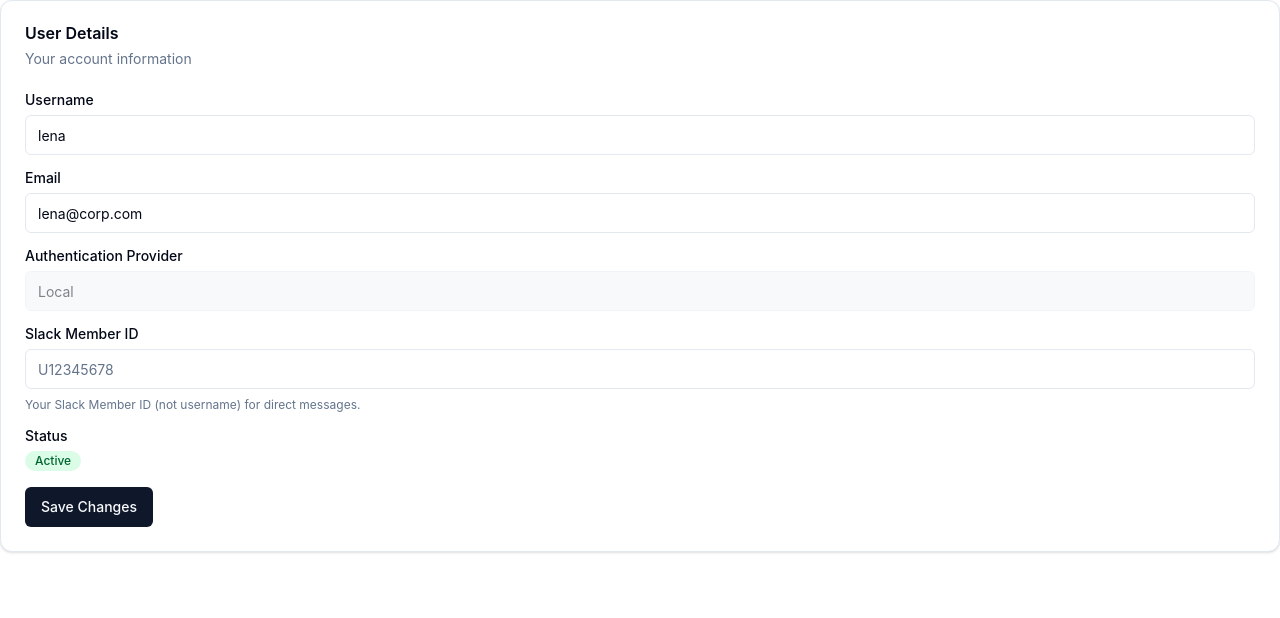
it: UserDetailsCard › keeps a saved address waiting for its link when the new name is refused
This screenshot has width=1280, height=618.
Replace the text in the field labelled "Username" with "otto" at (640, 135), box [25,115,1255,155]
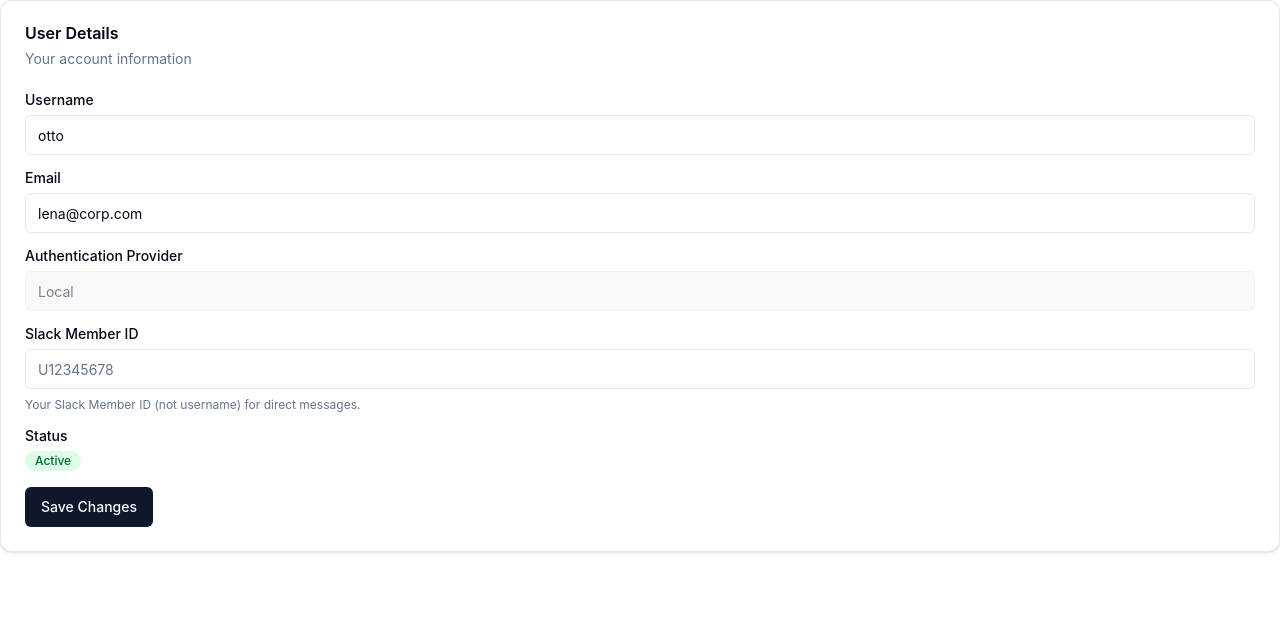
Replace the text in the field labelled "Email" with "lena.new@corp.com" at (640, 213), box [25,193,1255,233]
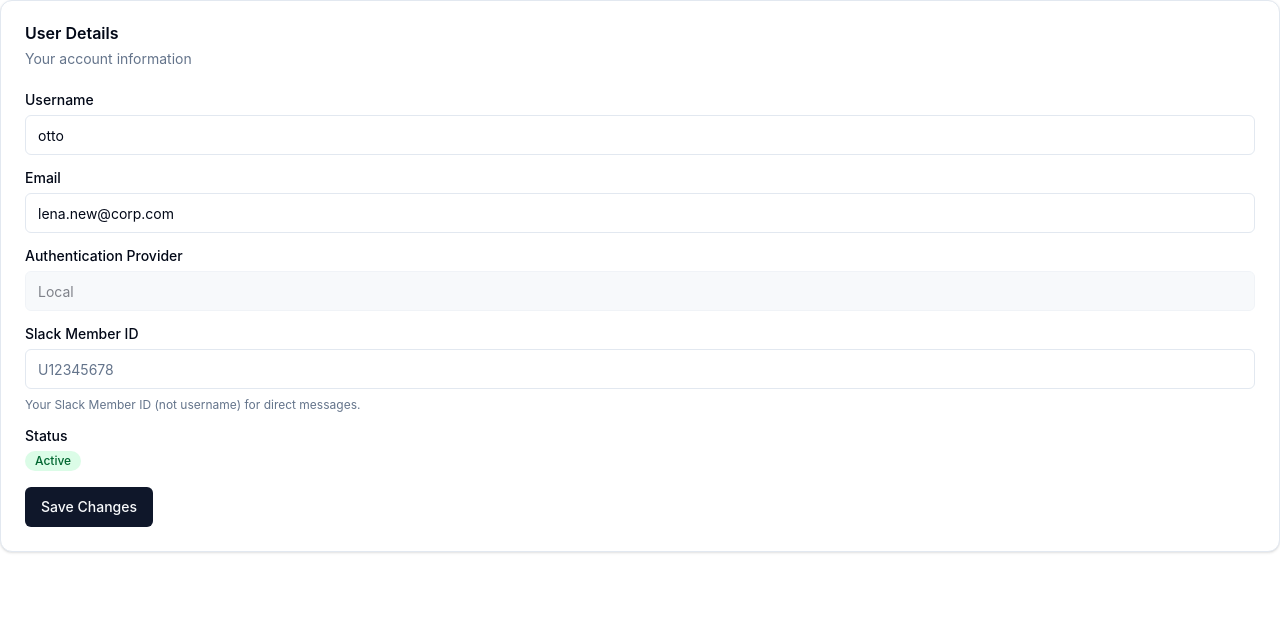
Click the button "Save Changes".
click(89, 507)  # box [25,487,153,527]
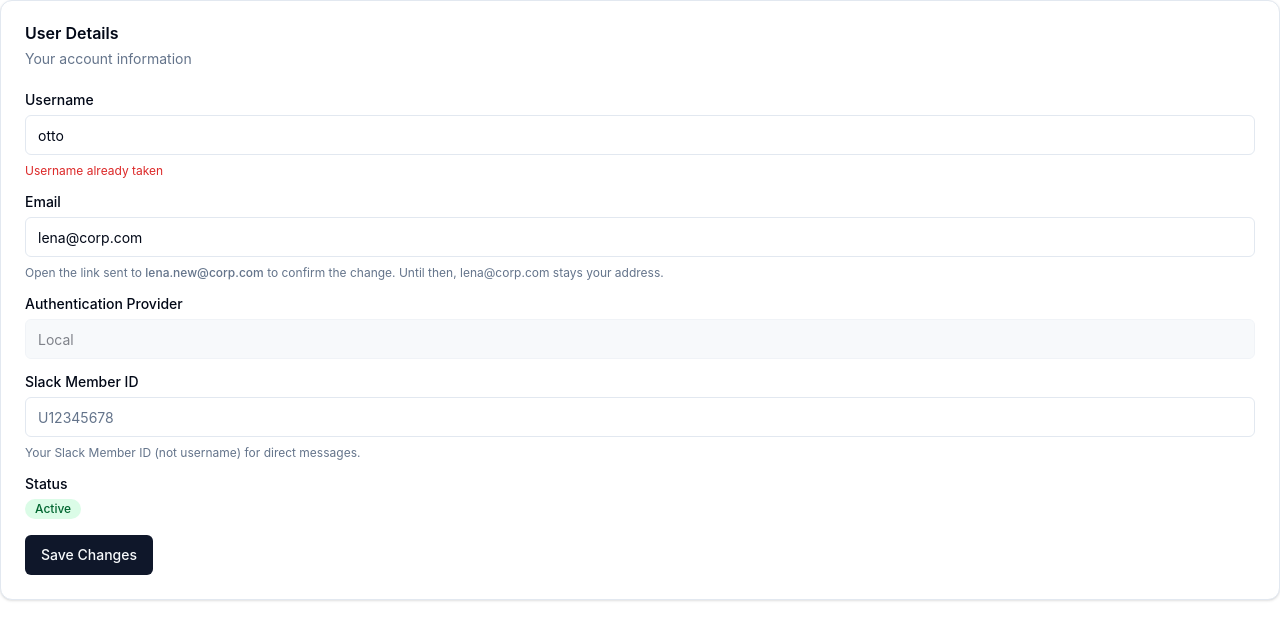
Expected: the message reads "Username already taken", [25,163,163,178]
Expected: the field labelled "Email" holds "lena@corp.com", [25,217,1255,257]
